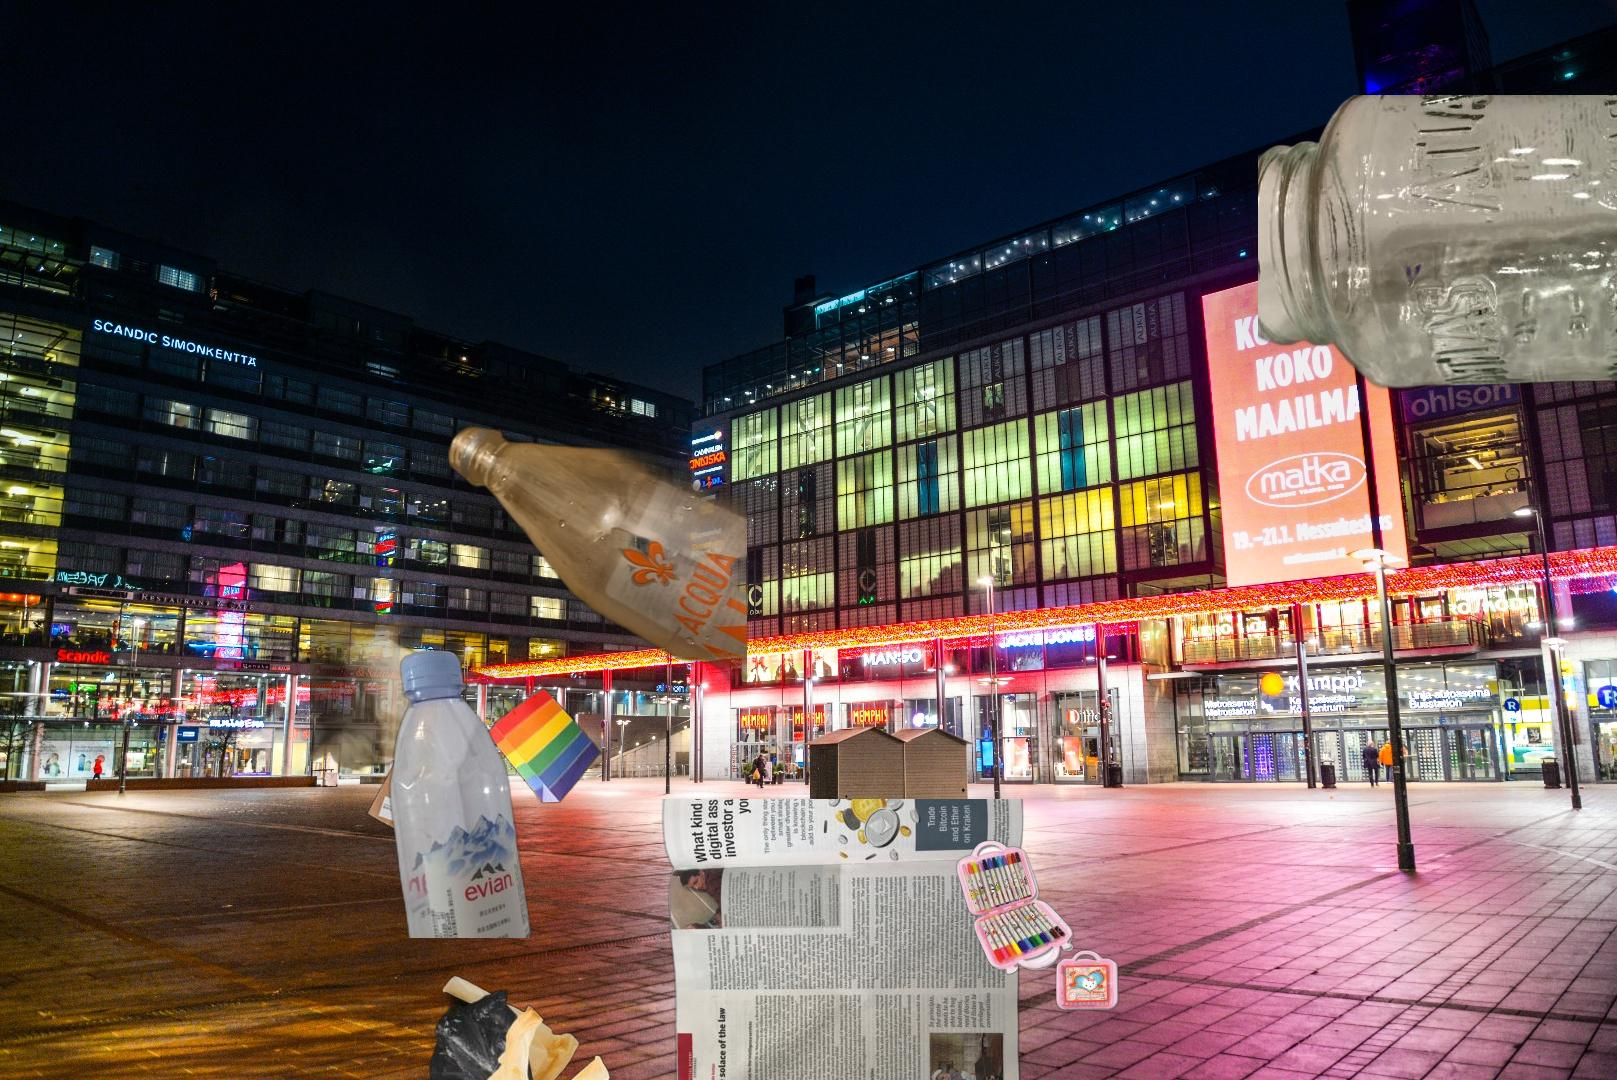glass: (1258, 95, 1617, 438)
paper: (659, 799, 1028, 1080)
paper-bag: (310, 622, 604, 858)
penholder: (954, 838, 1122, 1012)
plastic-bag: (422, 973, 613, 1080)
plastic-bottles: (443, 241, 747, 753), (384, 647, 535, 938), (1268, 1074, 1428, 1080)
